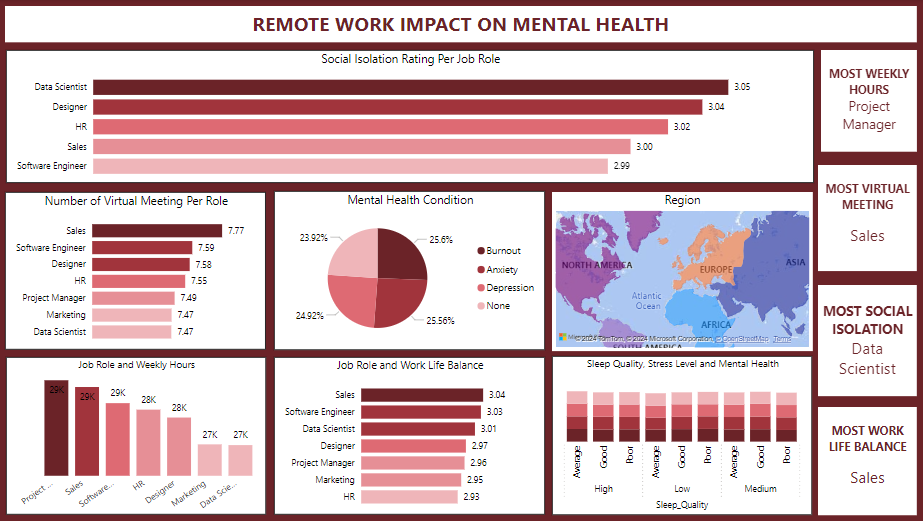

The dashboard page shown, as its layout file describes it:
{"tool":"powerbi","page":{"name":"Page 1","canvas":[1280,720],"ordinal":0},"visuals":[{"type":"columnChart","title":"Job Role and Weekly Hours","fields":{"Category":["Impact_of_Remote_Work_on_Mental_Health.Job_Role"],"Y":["Sum(Impact_of_Remote_Work_on_Mental_Health.Hours_Worked_Per_Week)"]},"box":[12.4,492.7,357.8,217.5],"z":0},{"type":"barChart","title":"Job Role and Work Life Balance","fields":{"Category":["Impact_of_Remote_Work_on_Mental_Health.Job_Role"],"Y":["Avg(Impact_of_Remote_Work_on_Mental_Health.Work_Life_Balance_Rating)"]},"box":[381.2,492.7,373,217.5],"z":1000},{"type":"barChart","title":"Number of Virtual Meeting Per Role","fields":{"Category":["Impact_of_Remote_Work_on_Mental_Health.Job_Role"],"Y":["Avg(Impact_of_Remote_Work_on_Mental_Health.Number_of_Virtual_Meetings)"]},"box":[11,265.6,359.2,217.5],"z":2000},{"type":"pieChart","title":"Mental Health Condition","fields":{"Category":["Impact_of_Remote_Work_on_Mental_Health.Mental_Health_Condition"],"Y":["CountNonNull(Impact_of_Remote_Work_on_Mental_Health.Mental_Health_Condition)"]},"box":[381.2,264.3,373,218.8],"z":3000},{"type":"columnChart","title":"Sleep Quality, Stress Level and Mental Health ","fields":{"Category":["Impact_of_Remote_Work_on_Mental_Health.Stress_Level","Impact_of_Remote_Work_on_Mental_Health.Sleep_Quality"],"Series":["Impact_of_Remote_Work_on_Mental_Health.Mental_Health_Condition"],"Y":["Avg(Impact_of_Remote_Work_on_Mental_Health.Hours_Worked_Per_Week)"]},"box":[763.9,491.4,357.8,218.8],"z":4000},{"type":"filledMap","title":"Region ","fields":{"Series":["Impact_of_Remote_Work_on_Mental_Health.Region"],"Category":["Impact_of_Remote_Work_on_Mental_Health.Region"]},"box":[763.9,265.6,359.2,218.8],"z":5000},{"type":"textbox","box":[11,9.6,1255.2,49.5],"z":6000},{"type":"clusteredBarChart","title":"Social Isolation Rating Per Job Role","fields":{"Category":["Impact_of_Remote_Work_on_Mental_Health.Job_Role"],"Y":["Avg(Impact_of_Remote_Work_on_Mental_Health.Social_Isolation_Rating)"]},"box":[12.4,70.2,1112.1,183.1],"z":7000},{"type":"textbox","box":[1134.1,70.2,132.1,140.4],"z":8000},{"type":"textbox","box":[1130,228.5,136.3,145.9],"z":9000},{"type":"textbox","box":[1130,561.5,136.3,148.6],"z":10000},{"type":"textbox","box":[1130,393.6,136.3,152.8],"z":11000}]}

Visuals, with their boxes in screenshot pixels (x1, y1, x2, y2), scaled from the page's 1280x720 canvas onto the 923x521 screenshot:
"Job Role and Weekly Hours" columnChart: <bbox>9, 357, 267, 514</bbox>
"Job Role and Work Life Balance" barChart: <bbox>275, 357, 544, 514</bbox>
"Number of Virtual Meeting Per Role" barChart: <bbox>8, 192, 267, 350</bbox>
"Mental Health Condition" pieChart: <bbox>275, 191, 544, 350</bbox>
"Sleep Quality, Stress Level and Mental Health " columnChart: <bbox>551, 356, 809, 514</bbox>
"Region " filledMap: <bbox>551, 192, 810, 351</bbox>
textbox: <bbox>8, 7, 913, 43</bbox>
"Social Isolation Rating Per Job Role" clusteredBarChart: <bbox>9, 51, 811, 183</bbox>
textbox: <bbox>818, 51, 913, 152</bbox>
textbox: <bbox>815, 165, 913, 271</bbox>
textbox: <bbox>815, 406, 913, 514</bbox>
textbox: <bbox>815, 285, 913, 395</bbox>
